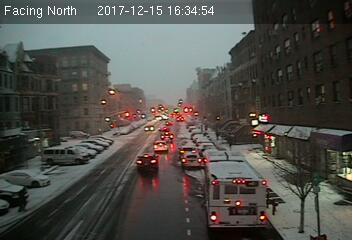bus: (204, 150, 270, 229)
car: (136, 152, 160, 174), (180, 150, 202, 171), (153, 140, 168, 153), (160, 132, 175, 140), (143, 124, 155, 133)
